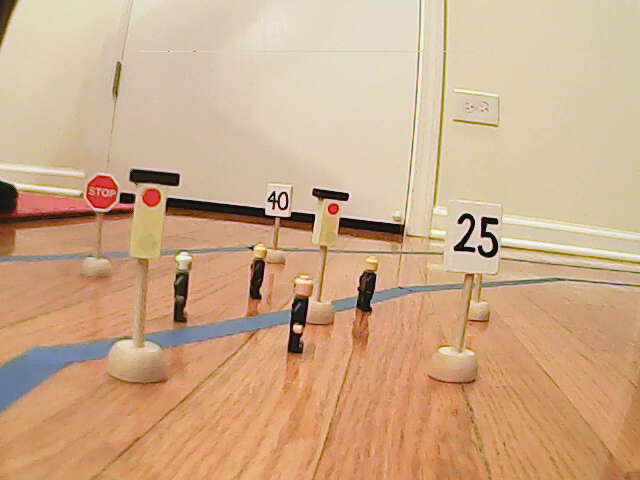Person: (288, 273, 316, 357), (358, 254, 381, 313), (175, 254, 194, 324), (248, 242, 268, 302)
Red Traffic Light: (126, 168, 177, 261), (312, 188, 345, 249)
Speed Limit 25: (445, 199, 502, 275)
Speed Limit 40: (265, 183, 291, 219)
Stop Sign: (84, 173, 122, 214)
